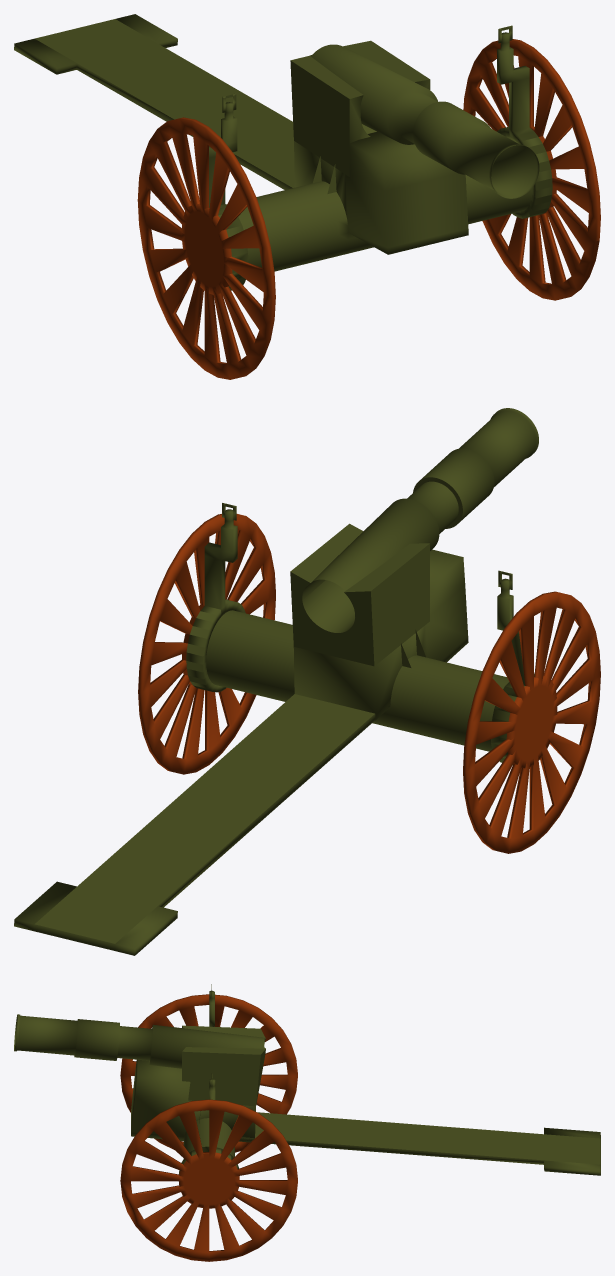
File: Howitzer_Actual.glb
The picture shows the model from 3 angles, top to bottom: view 1: azimuth 30°, elevation 25°; view 2: azimuth 150°, elevation 25°; view 3: azimuth 270°, elevation 25°; orthographic projection. The views are drawn at different scales.
Parts seen in each view (by area): view 1: Circle, Circle.001; view 2: Circle, Circle.001; view 3: Circle, Circle.001.
Part boxes in pixels (x1=…): Circle: x1=14, y1=14, x2=600, y2=379; Circle.001: x1=310, y1=44, x2=539, y2=198; Circle: x1=14, y1=477, x2=600, y2=955; Circle.001: x1=302, y1=408, x2=538, y2=632; Circle: x1=120, y1=984, x2=600, y2=1261; Circle.001: x1=14, y1=1014, x2=265, y2=1068.
Bounding box in the file's own units: 8.17 × 6.87 × 19.
